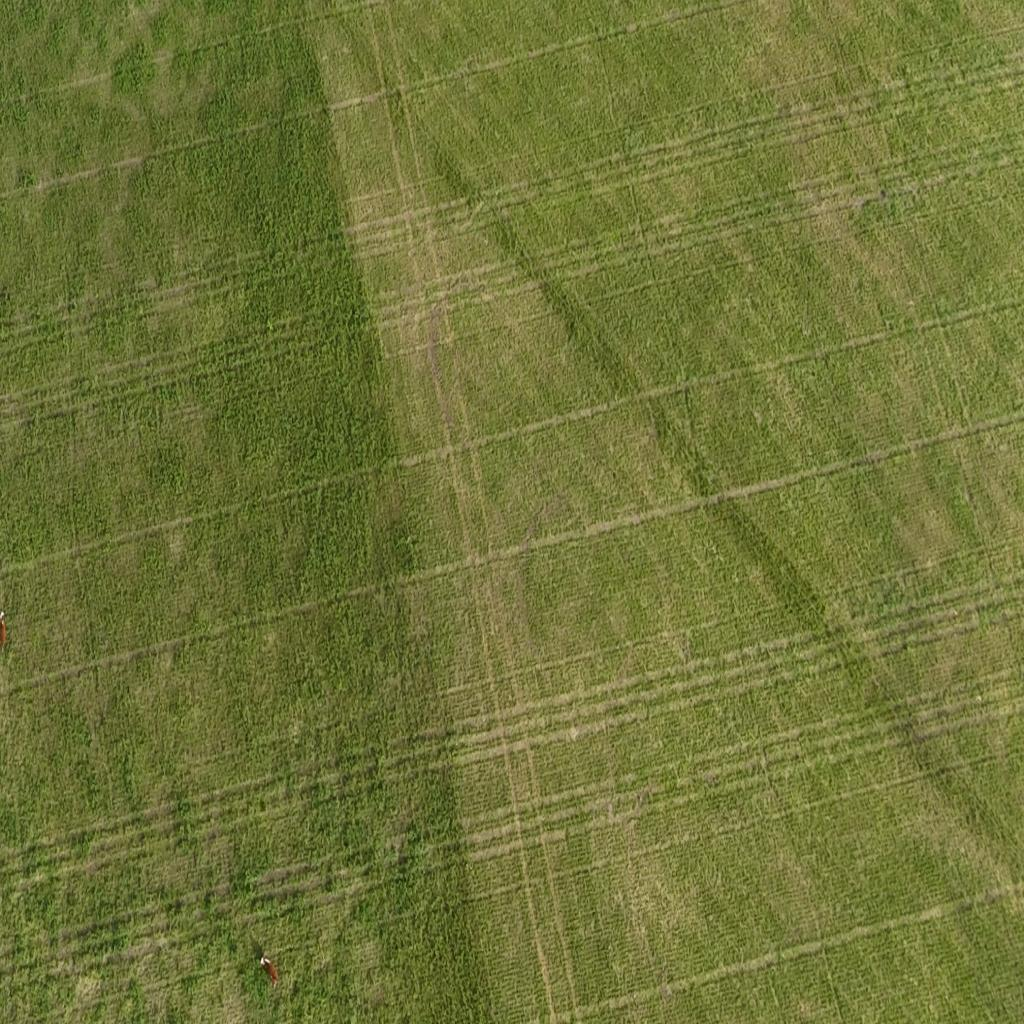cow: (258, 952, 280, 988), (0, 602, 12, 656)
